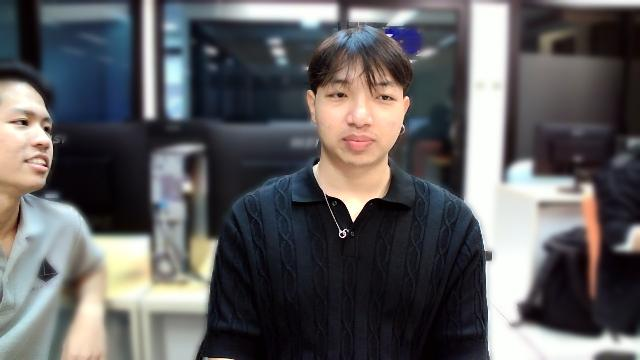fokus: (308, 39, 409, 166)
